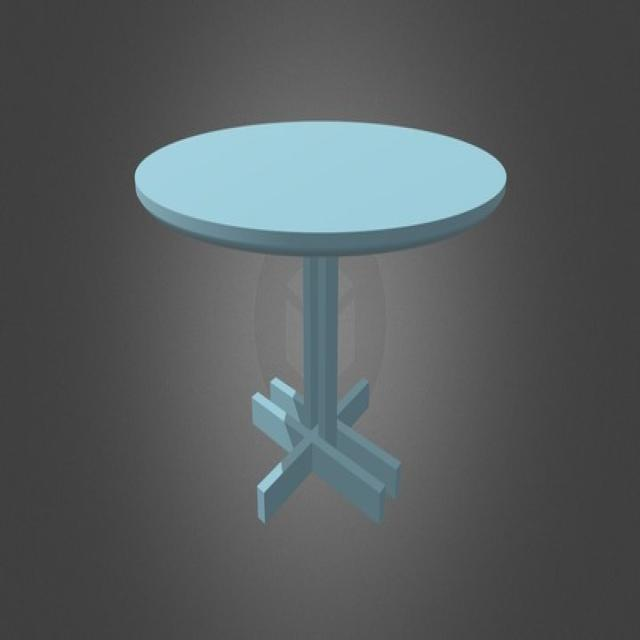table: (135, 119, 509, 530)
